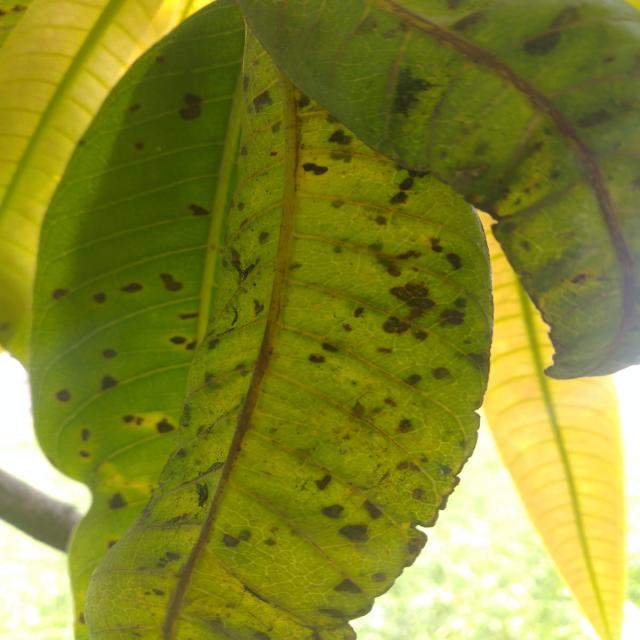black die: (383, 64, 436, 123), (389, 272, 438, 323), (380, 292, 429, 343), (522, 28, 566, 62), (451, 8, 488, 35), (352, 12, 382, 42), (576, 107, 614, 130), (155, 269, 184, 296), (318, 603, 350, 624), (550, 6, 580, 28), (242, 584, 271, 606), (249, 89, 275, 113), (329, 126, 355, 149), (180, 93, 202, 119), (339, 525, 369, 542), (302, 159, 328, 178), (154, 417, 176, 439), (362, 498, 383, 521), (444, 249, 465, 271), (440, 309, 465, 327), (220, 530, 241, 551), (97, 372, 118, 392), (106, 492, 127, 512), (334, 578, 361, 593), (314, 473, 335, 492), (187, 203, 211, 219), (196, 482, 211, 507), (570, 270, 589, 288), (398, 175, 416, 194), (471, 140, 491, 157), (396, 417, 414, 435), (404, 371, 423, 388), (431, 365, 451, 381), (386, 261, 404, 278), (351, 401, 368, 419), (322, 504, 343, 518), (321, 341, 340, 356), (330, 151, 353, 163), (412, 328, 429, 342), (374, 213, 389, 228), (206, 336, 221, 351), (253, 298, 265, 316), (548, 168, 562, 183), (518, 239, 533, 253), (390, 192, 407, 204), (122, 283, 142, 293), (133, 138, 147, 152), (175, 446, 189, 460), (383, 396, 398, 409), (430, 237, 442, 253), (105, 536, 118, 550), (372, 571, 386, 584), (179, 312, 199, 321), (411, 487, 424, 500), (298, 94, 310, 108), (258, 231, 270, 245), (447, 0, 463, 10), (56, 390, 70, 401), (331, 200, 346, 210), (53, 289, 68, 299), (309, 354, 325, 363), (454, 298, 467, 309), (238, 530, 251, 541), (254, 631, 271, 639), (170, 336, 187, 344), (128, 103, 141, 113), (439, 464, 452, 474), (243, 74, 250, 92), (235, 201, 246, 212), (76, 138, 87, 149), (354, 306, 365, 317), (271, 121, 281, 133), (94, 293, 106, 303), (81, 428, 90, 441), (326, 114, 339, 123), (123, 415, 135, 424), (269, 149, 279, 159), (377, 348, 393, 354), (602, 56, 615, 63), (79, 450, 91, 457), (153, 588, 164, 595), (78, 613, 85, 624), (333, 245, 342, 253), (264, 539, 276, 545), (343, 324, 353, 331), (240, 146, 247, 156), (155, 56, 165, 63)
